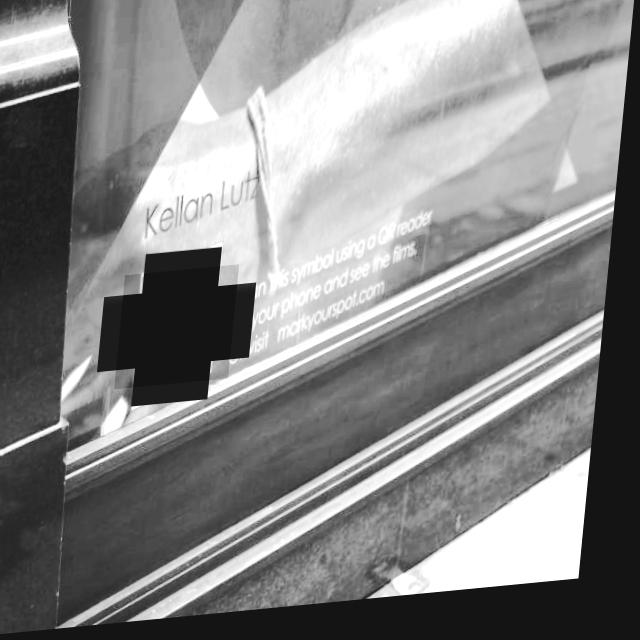qr_code: (122, 270, 245, 392)
